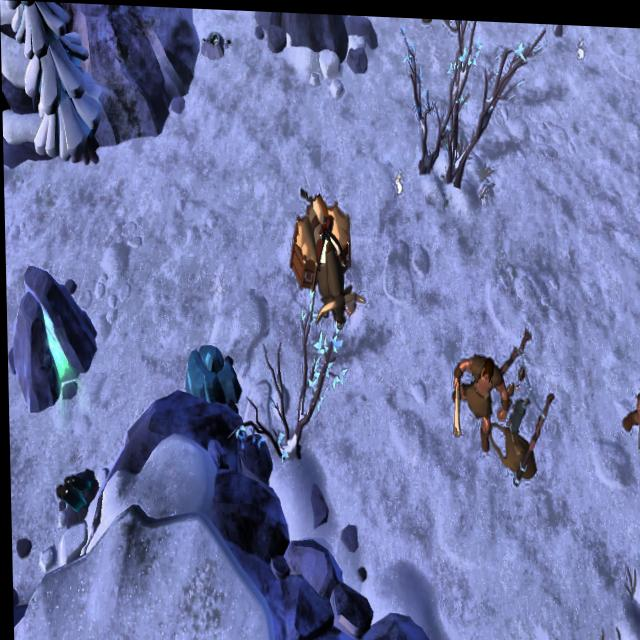enemy_factionKeeper: (450, 343, 507, 448)
ore_t4: (51, 471, 92, 514)
rock_t4: (180, 331, 243, 409)
